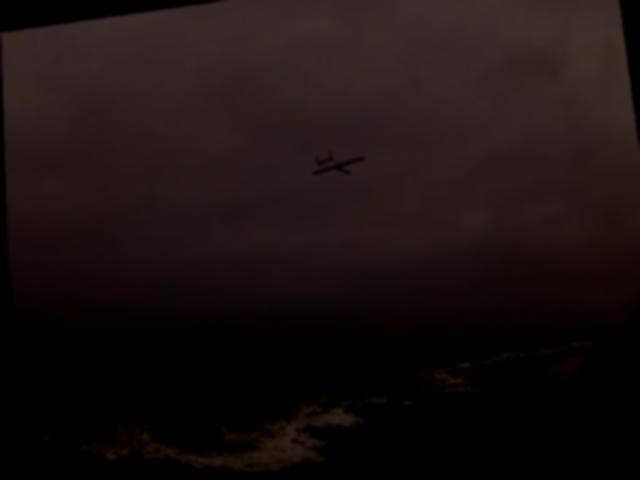uav: (304, 140, 369, 194)
